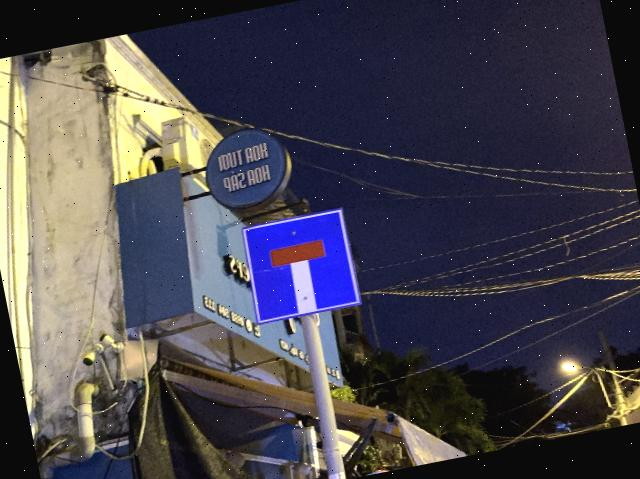duong-cut: (239, 206, 362, 324)
